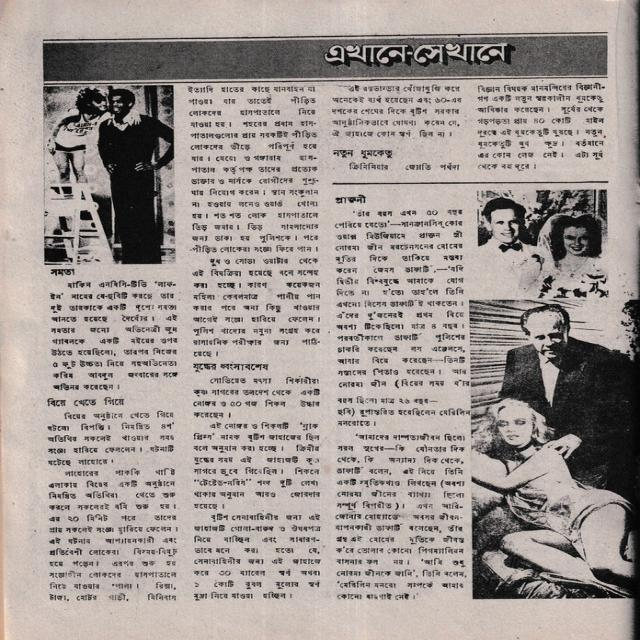image: (472, 300, 639, 599), (43, 85, 174, 264), (469, 189, 609, 298)
paragraph: (330, 206, 471, 429), (182, 84, 322, 255), (334, 430, 467, 603), (44, 465, 181, 604), (46, 279, 181, 393), (187, 255, 325, 359), (473, 81, 611, 173), (190, 511, 325, 603), (187, 420, 322, 511), (328, 82, 464, 139), (44, 409, 178, 466), (189, 375, 326, 420), (341, 161, 464, 174)
title: (319, 41, 519, 69), (42, 395, 130, 410), (188, 361, 271, 374), (330, 147, 396, 160), (333, 193, 368, 205), (48, 267, 77, 277)
